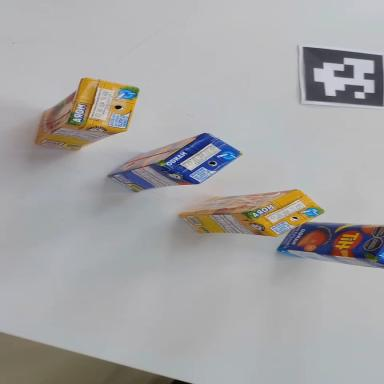HIT-MANGO: (104, 129, 245, 195), (277, 220, 384, 268)
HIT-MORA: (36, 71, 139, 162), (178, 189, 324, 241)
